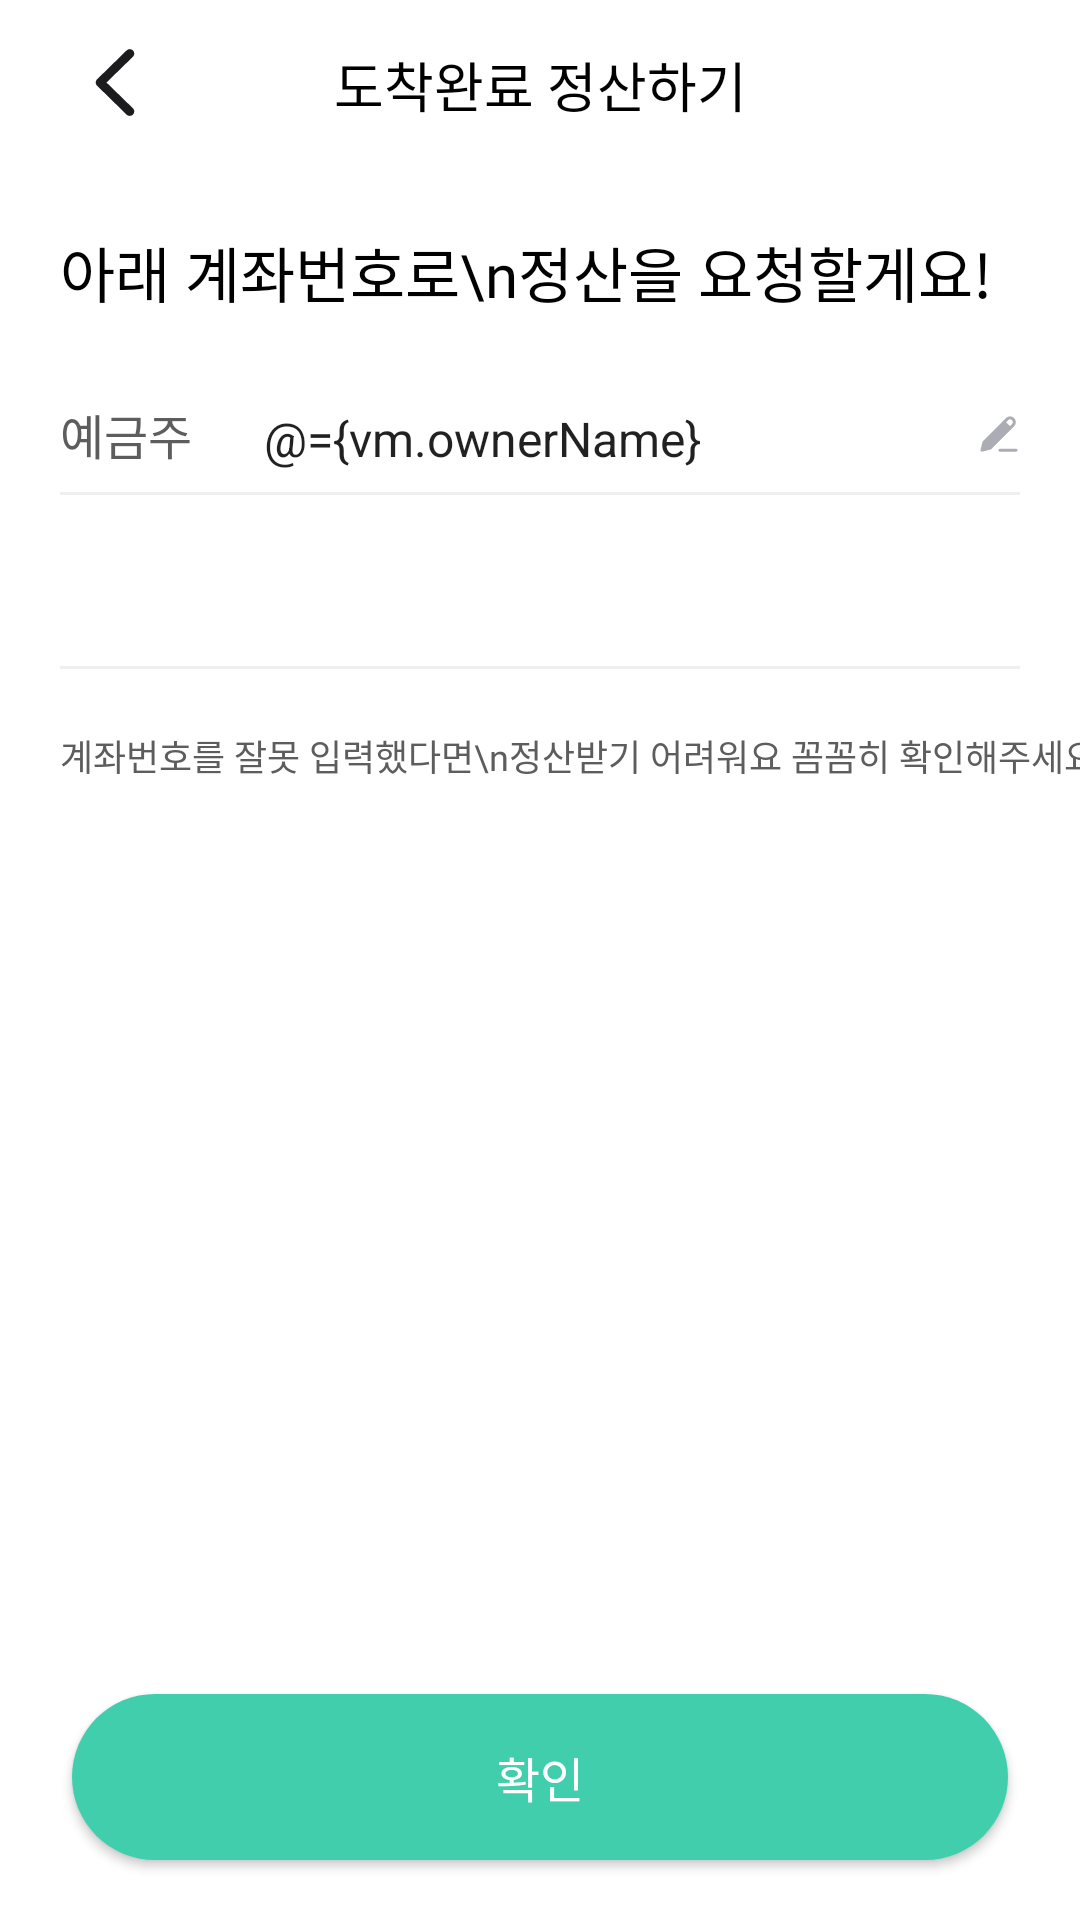

Screen size 1080×1920. Icon name, then its center in pixels as (x=x, y=y):
backward: (x=115, y=82)
pencil: (x=999, y=434)
